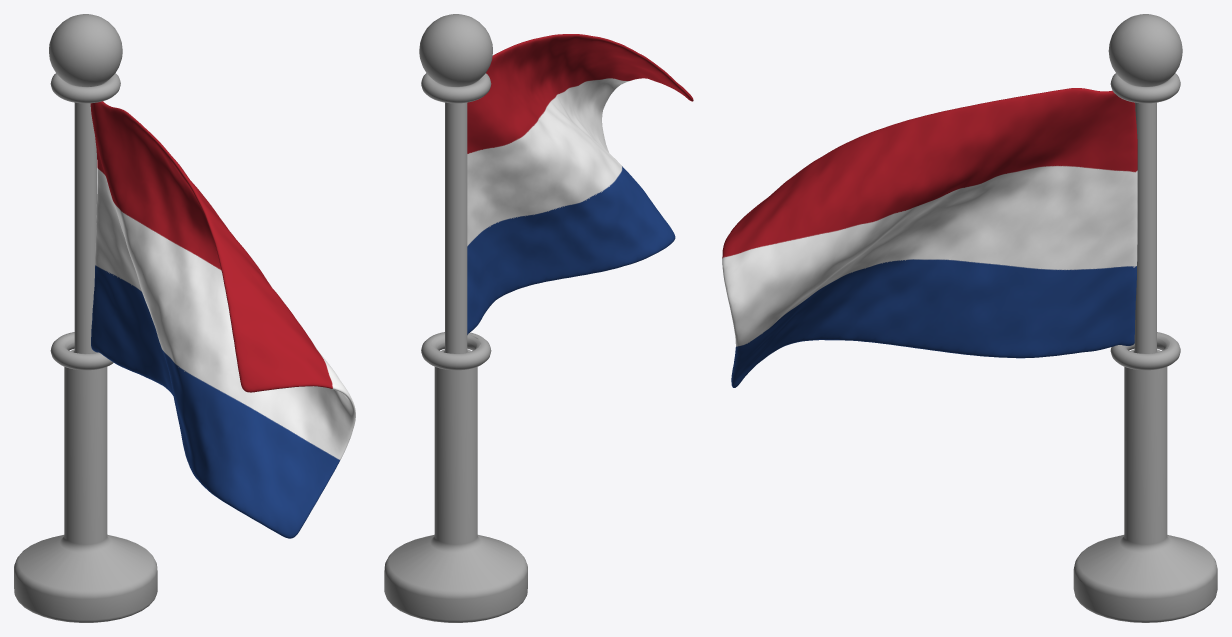
3 renders of one model, left to right at view 1: azimuth 30°, elevation 25°; view 2: azimuth 150°, elevation 25°; view 3: azimuth 270°, elevation 25°, orthographic.
Visible parts, largest first — view 1: Flag ShapeKeys_2_4, Circle, Sphere, Torus.002, Torus.001; view 2: Flag ShapeKeys_2_4, Circle, Sphere, Torus.001, Torus.002; view 3: Flag ShapeKeys_2_4, Circle, Sphere, Torus.001, Torus.002.
Part boxes in pixels (box(x1,y1,x2,y2)): Flag ShapeKeys_2_4: box(90, 101, 355, 538); Circle: box(14, 102, 157, 622); Sphere: box(49, 14, 122, 86); Torus.002: box(50, 73, 120, 103); Torus.001: box(50, 332, 113, 370); Flag ShapeKeys_2_4: box(467, 34, 693, 334); Circle: box(384, 102, 527, 622); Sphere: box(419, 14, 492, 86); Torus.001: box(421, 332, 491, 370); Torus.002: box(421, 73, 491, 103); Flag ShapeKeys_2_4: box(722, 88, 1137, 387); Circle: box(1073, 102, 1217, 622); Sphere: box(1108, 14, 1182, 86); Torus.001: box(1110, 332, 1180, 370); Torus.002: box(1110, 73, 1180, 103).
Bounding box in the file's own units: 0.9476 × 4.15 × 3.23.
Materials: 3 (1 with a texture image).
